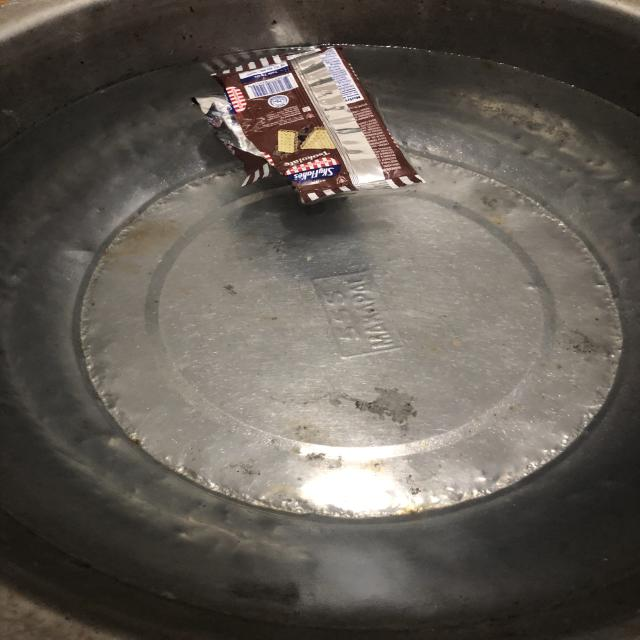Plastic Wrapper: (191, 46, 425, 203)
